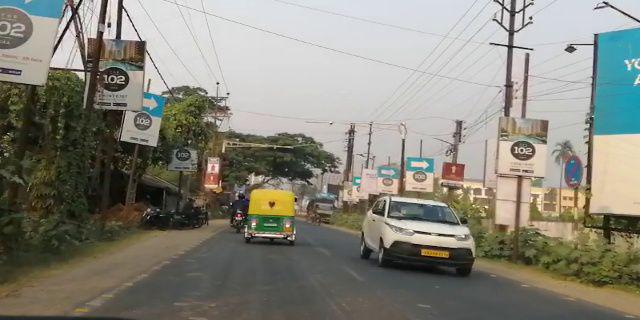Autorickshaw: (240, 183, 300, 248)
Car: (358, 191, 476, 276)
Motorbike: (226, 188, 246, 235)
Truck: (307, 194, 335, 227)
